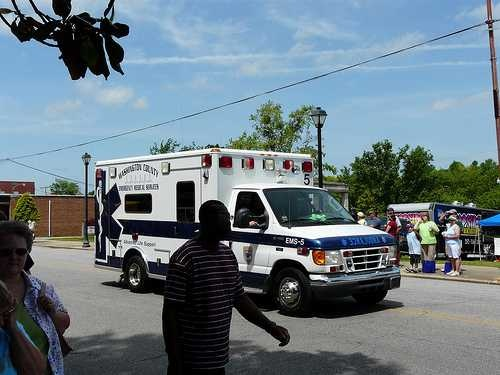Ambulance: (81, 140, 408, 297)
